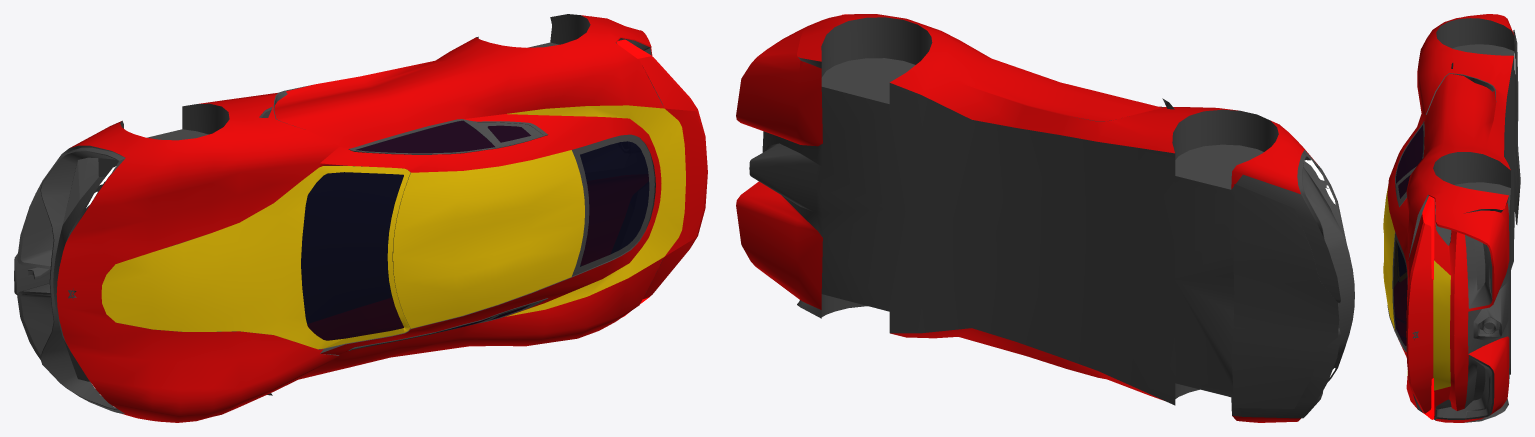
File: Car_test_Iron3.glb
3 views of the same model, side by side, from view 1: azimuth 30°, elevation 25°; view 2: azimuth 150°, elevation 25°; view 3: azimuth 270°, elevation 25° (orthographic). The views are drawn at different scales.
Parts seen in each view (by area): view 1: 3DGeom-004, 3DGeom-005, 3DGeom-006, 3DGeom-009; view 2: 3DGeom-009, 3DGeom-004; view 3: 3DGeom-004, 3DGeom-009, 3DGeom-005, 3DGeom-006, 3DGeom-008.
Boxes of the visible parts, bbox=[...] form: 3DGeom-004: bbox=[56, 15, 707, 422]; 3DGeom-005: bbox=[101, 105, 685, 349]; 3DGeom-006: bbox=[301, 121, 649, 340]; 3DGeom-009: bbox=[14, 14, 663, 414]; 3DGeom-009: bbox=[749, 17, 1354, 418]; 3DGeom-004: bbox=[736, 14, 1319, 422]; 3DGeom-004: bbox=[1387, 14, 1513, 422]; 3DGeom-009: bbox=[1387, 18, 1520, 422]; 3DGeom-005: bbox=[1383, 186, 1450, 390]; 3DGeom-006: bbox=[1393, 125, 1423, 345]; 3DGeom-008: bbox=[1422, 196, 1434, 419].
Bounding box in the file's own units: 7.27 × 3.27 × 1.73.
